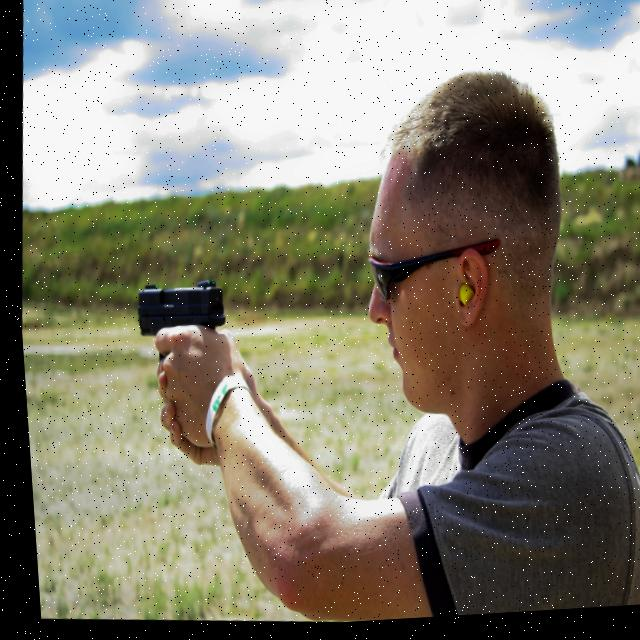pistol: (126, 274, 225, 368)
